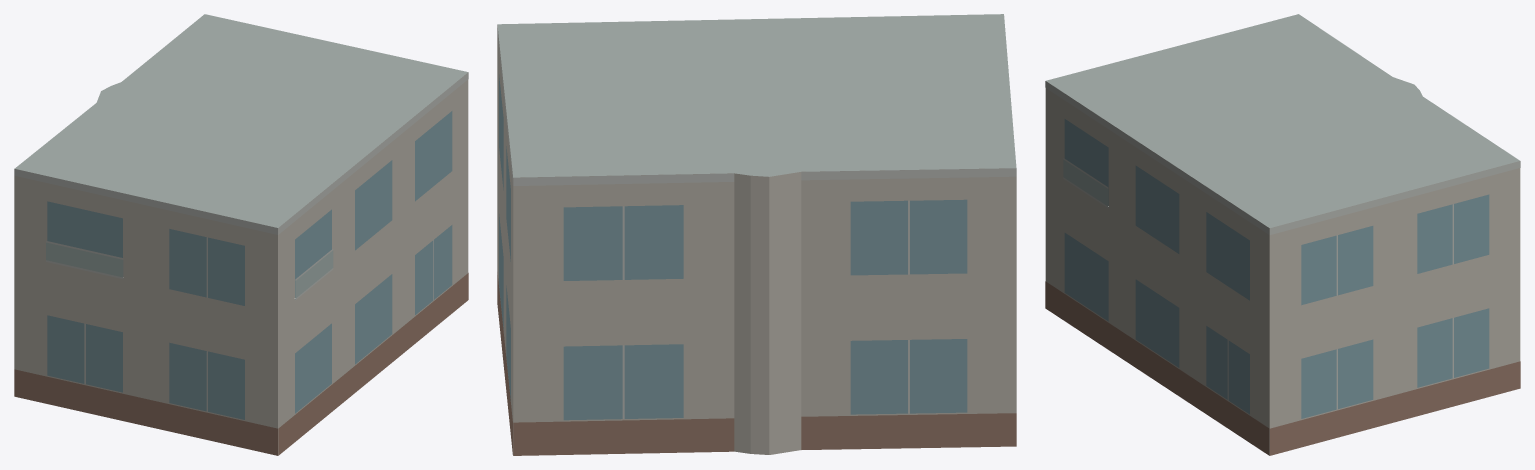
File: survey-upis-32623856.glb
3 renders of one model, left to right at view 1: azimuth 30°, elevation 25°; view 2: azimuth 150°, elevation 25°; view 3: azimuth 270°, elevation 25°, orthographic. The views are drawn at different scales.
Parts seen in each view (by area): view 1: survey-upis-32623856.tmp; view 2: survey-upis-32623856.tmp; view 3: survey-upis-32623856.tmp.
Boxes of the visible parts, x1,y1,x2,y2 form: survey-upis-32623856.tmp: (14,14,468,455); survey-upis-32623856.tmp: (497,14,1016,455); survey-upis-32623856.tmp: (1045,14,1520,455).
Size of the model in its own units: 16.06 by 7.95 by 15.04.
